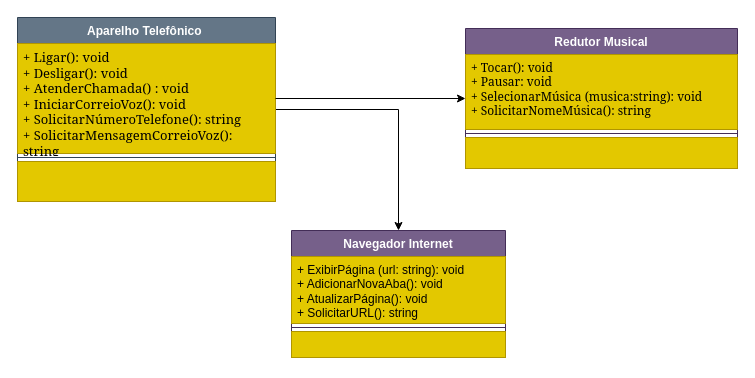
Some shapes in this 755 by 378 pixel diagram are drawn without their labels. Each missing label, with the centre of its shape:
"- NomeMúsica: string" goes at point (601, 152).
"- NúmeroTelefone: string - MensagemCorreioVoz: string" goes at point (146, 181).
"- PáginaAtual: string" goes at point (398, 344).
